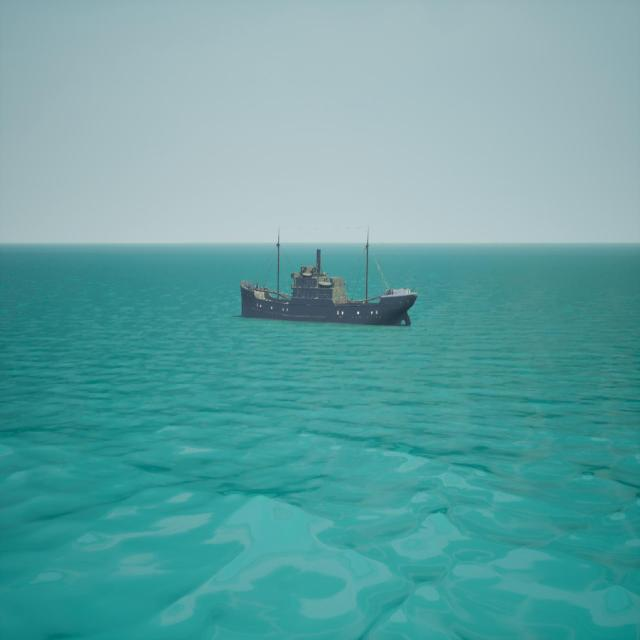fishing ship: (241, 228, 418, 327)
